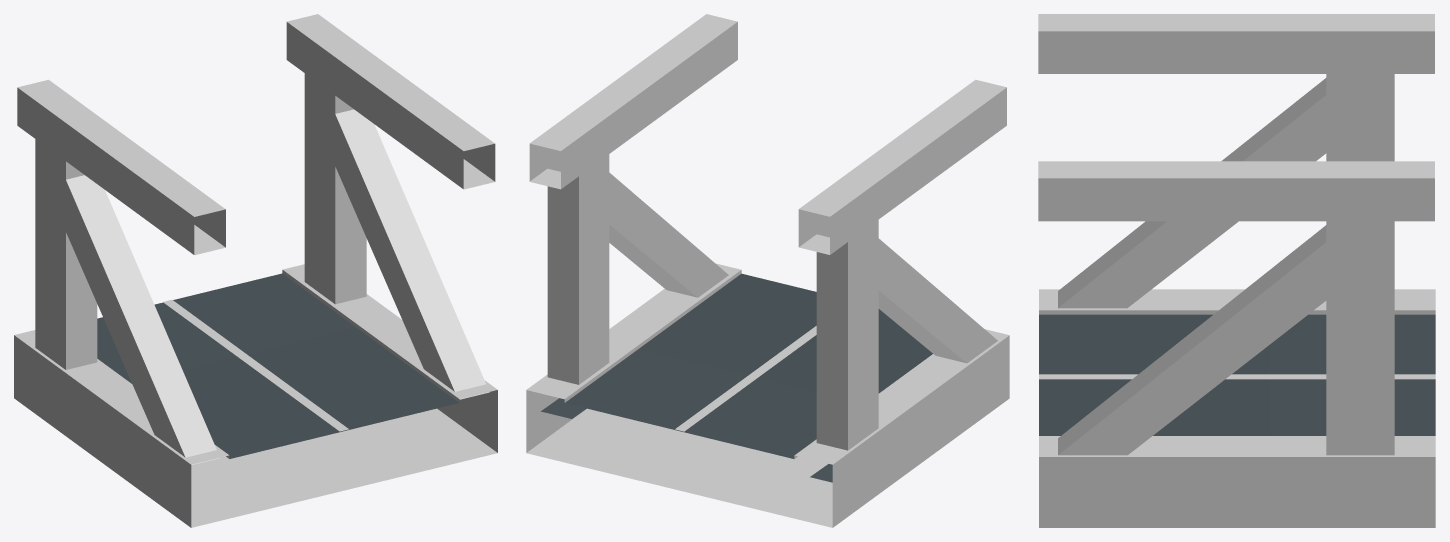
The model's file is tile_road_bridge_mid_1x1_a.fbx.
3 views of the same model, side by side, from view 1: azimuth 30°, elevation 25°; view 2: azimuth 150°, elevation 25°; view 3: azimuth 270°, elevation 25° (orthographic). The views are drawn at different scales.
Parts seen in each view (by area): view 1: tile_road_bridge_mid_1x1_a; view 2: tile_road_bridge_mid_1x1_a; view 3: tile_road_bridge_mid_1x1_a.
Boxes of the visible parts, left/top/right/bottom form: tile_road_bridge_mid_1x1_a: left=14, top=14, right=497, bottom=527; tile_road_bridge_mid_1x1_a: left=526, top=14, right=1009, bottom=527; tile_road_bridge_mid_1x1_a: left=1038, top=14, right=1435, bottom=527.
Bounding box in the file's own units: 1600 × 1547 × 1603.
